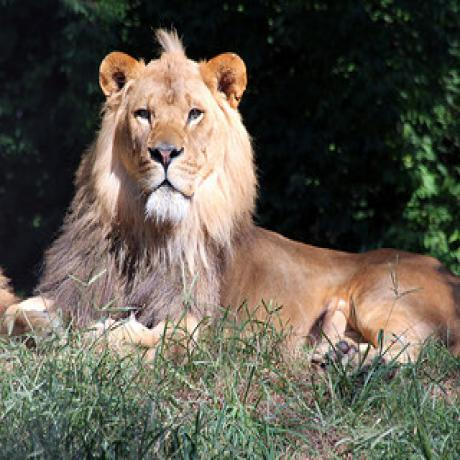Lion: (14, 19, 460, 373)
